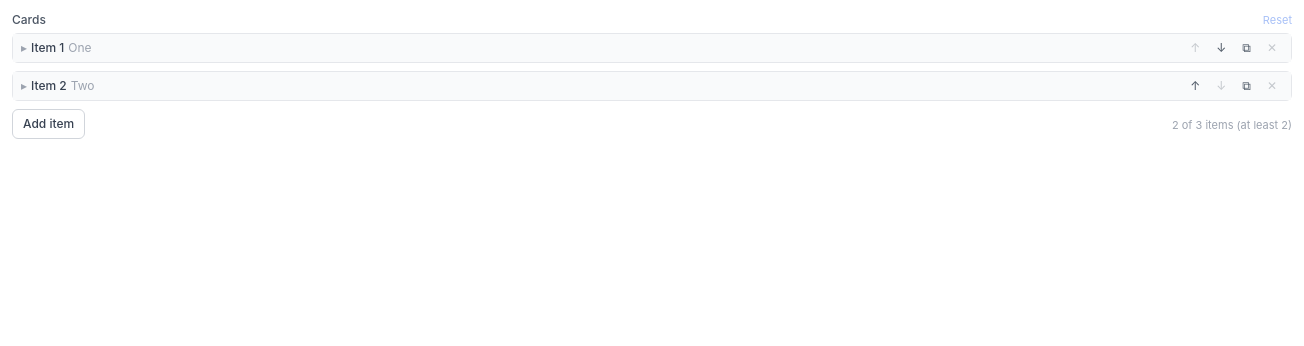
repeater editor › respects min and max
Expected: the button named "Remove item 1" is disabled, [1261, 38, 1283, 58]
Step 1. Click the button "Add item" → [49, 124], box [12, 108, 85, 138]
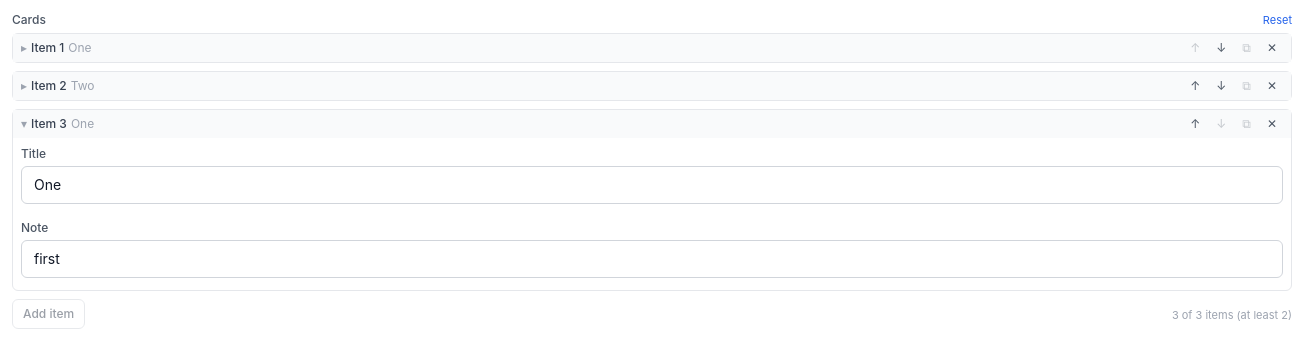
Now the button "Add item" is disabled, box [12, 298, 85, 328]
Now the button named "Duplicate item 1" is disabled, box [1236, 38, 1257, 58]
Now the button named "Remove item 1" is enabled, box [1261, 38, 1283, 58]
